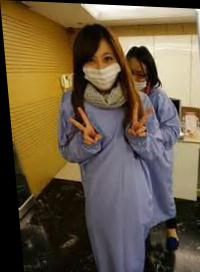WRONG: (83, 53, 118, 86), (124, 66, 147, 92)
